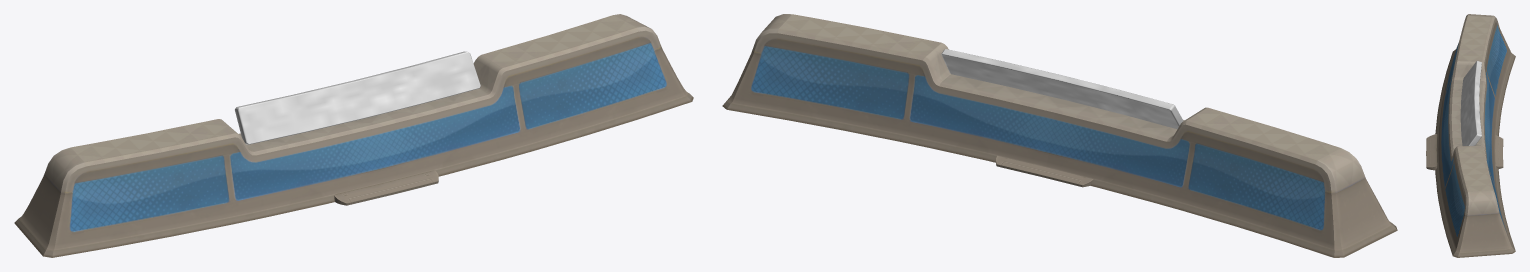
File: pref_sm_beach_techobstacle07c_lv3.fbx
3 renders of one model, left to right at view 1: azimuth 30°, elevation 25°; view 2: azimuth 150°, elevation 25°; view 3: azimuth 270°, elevation 25°, orthographic. The views are drawn at different scales.
Parts seen in each view (by area): view 1: pref_sm_beach_techobstacle07c_lv3, pref_sm_beach_techobstacle07c2_lv3; view 2: pref_sm_beach_techobstacle07c_lv3, pref_sm_beach_techobstacle07c2_lv3; view 3: pref_sm_beach_techobstacle07c_lv3, pref_sm_beach_techobstacle07c2_lv3.
Part boxes in pixels (bbox=[...]): pref_sm_beach_techobstacle07c_lv3: bbox=[14, 14, 693, 257]; pref_sm_beach_techobstacle07c2_lv3: bbox=[235, 51, 480, 144]; pref_sm_beach_techobstacle07c_lv3: bbox=[722, 14, 1397, 257]; pref_sm_beach_techobstacle07c2_lv3: bbox=[941, 49, 1183, 129]; pref_sm_beach_techobstacle07c_lv3: bbox=[1426, 14, 1515, 257]; pref_sm_beach_techobstacle07c2_lv3: bbox=[1460, 61, 1481, 145].
Size of the model in its own units: 14.49 by 1.84 by 2.64.
